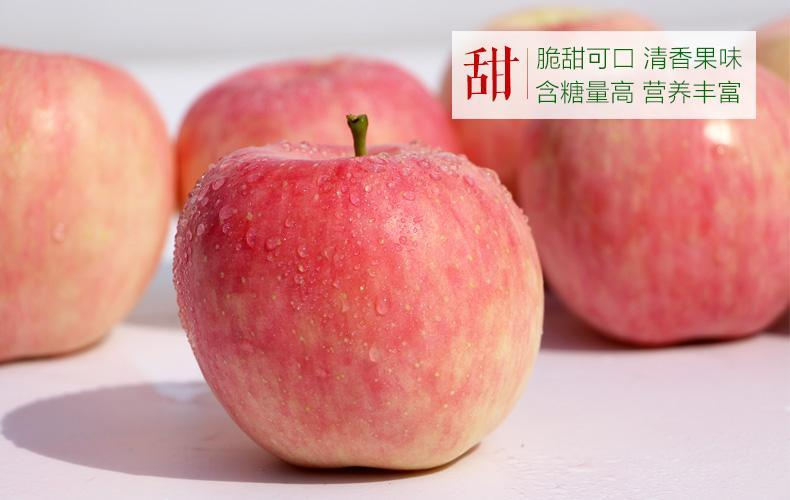apple: (159, 137, 545, 468), (1, 46, 166, 361)
